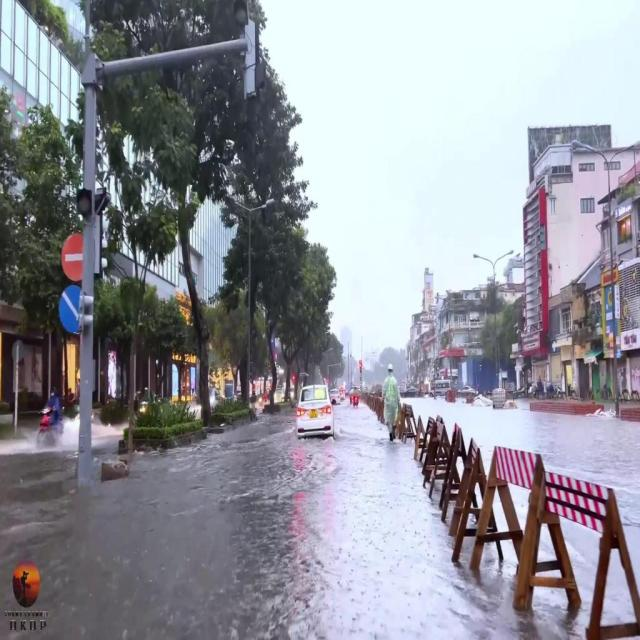cam_xe_di_nguoc_chieu: (61, 232, 83, 282)
huong_phai_di_vuot_chuong_ngai_vat_phai: (58, 283, 82, 334)
